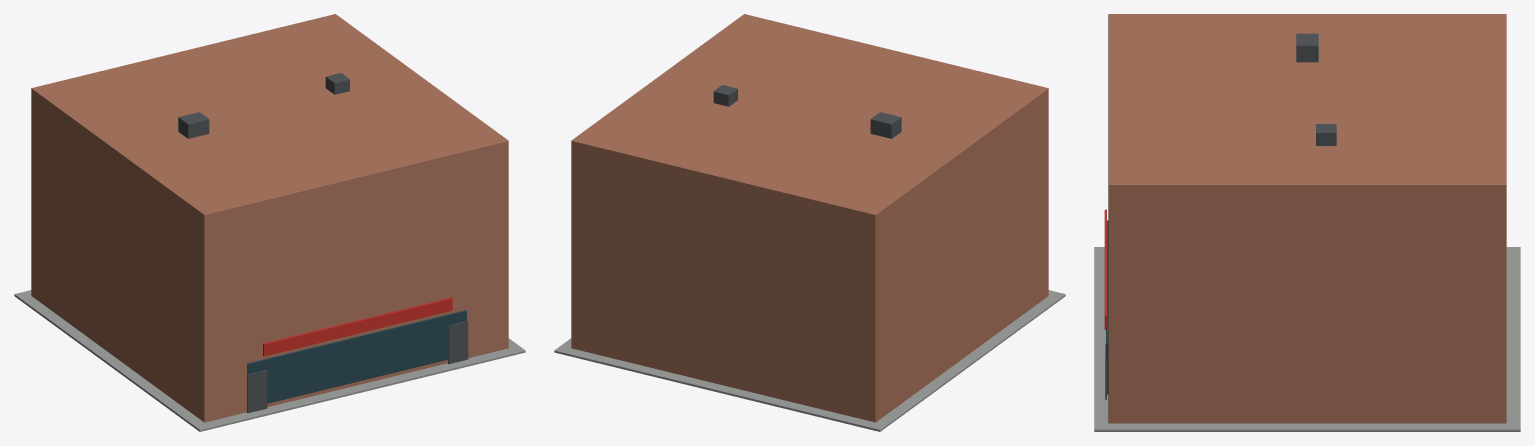
The model's file is Building_Commercial_010.glb.
3 views of the same model, side by side, from view 1: azimuth 30°, elevation 25°; view 2: azimuth 150°, elevation 25°; view 3: azimuth 270°, elevation 25° (orthographic). The views are drawn at different scales.
Visible parts, largest first — view 1: Building_Commercial_010; view 2: Building_Commercial_010; view 3: Building_Commercial_010.
Part boxes in pixels (<box>): Building_Commercial_010: <box>14,14,525,431</box>; Building_Commercial_010: <box>554,14,1065,431</box>; Building_Commercial_010: <box>1094,14,1520,431</box>.
Bounding box in the file's own units: 22.97 × 15.16 × 22.65.
